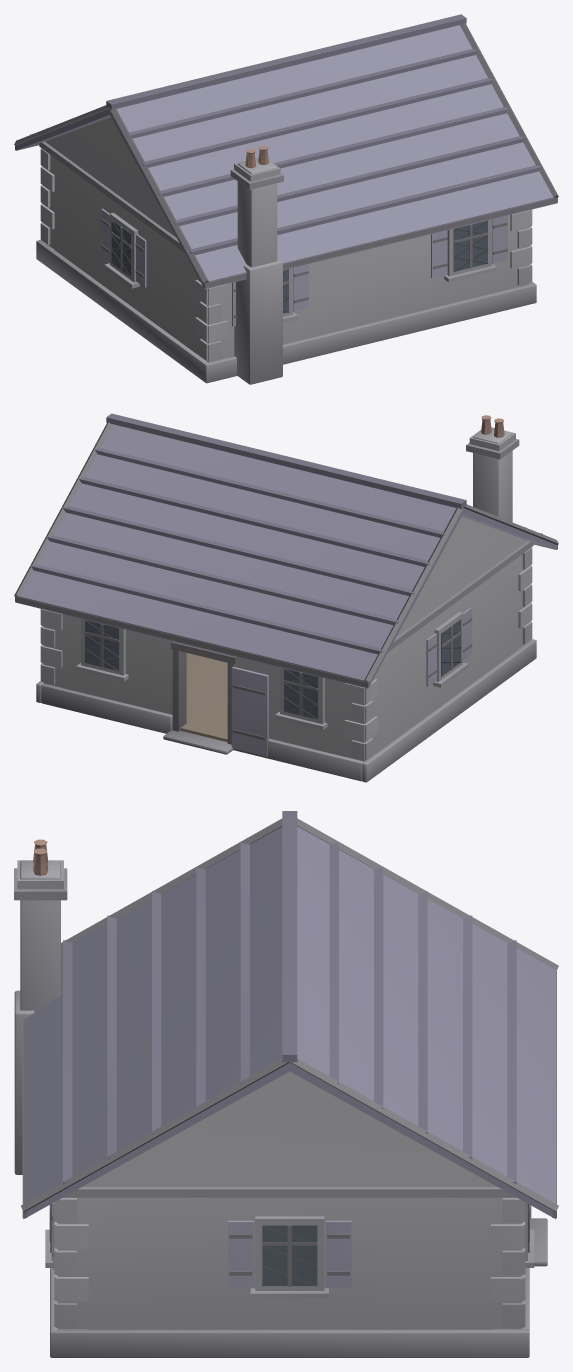
File: open_house_storm.gltf
3 views of the same model, one above another, from view 1: azimuth 30°, elevation 25°; view 2: azimuth 150°, elevation 25°; view 3: azimuth 270°, elevation 25° (orthographic). The views are drawn at different scales.
Parts seen in each view (by area): view 1: Body; view 2: Body; view 3: Body.
Part boxes in pixels (left/top/right/bottom): Body: left=14, top=14, right=558, bottom=384; Body: left=14, top=413, right=558, bottom=782; Body: left=14, top=811, right=558, bottom=1357.
Bounding box in the file's own units: 9.97 × 6.04 × 9.4.
